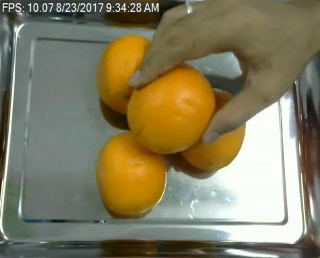Orange: (96, 133, 167, 215)
